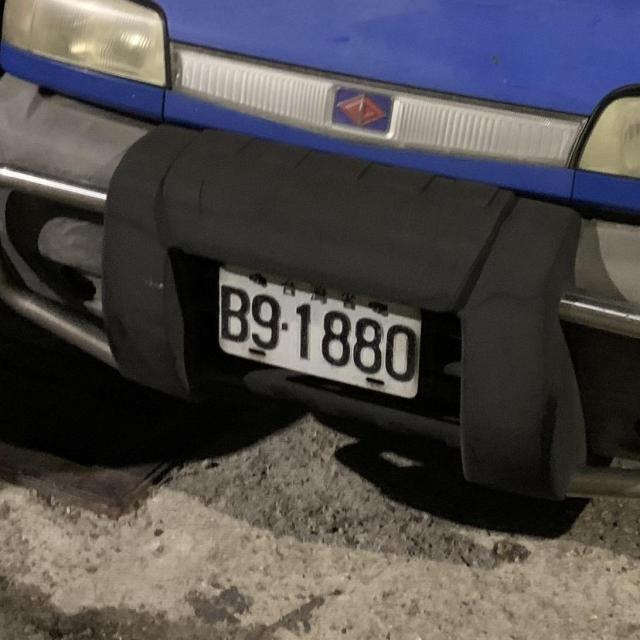W: (200, 252, 433, 408)
